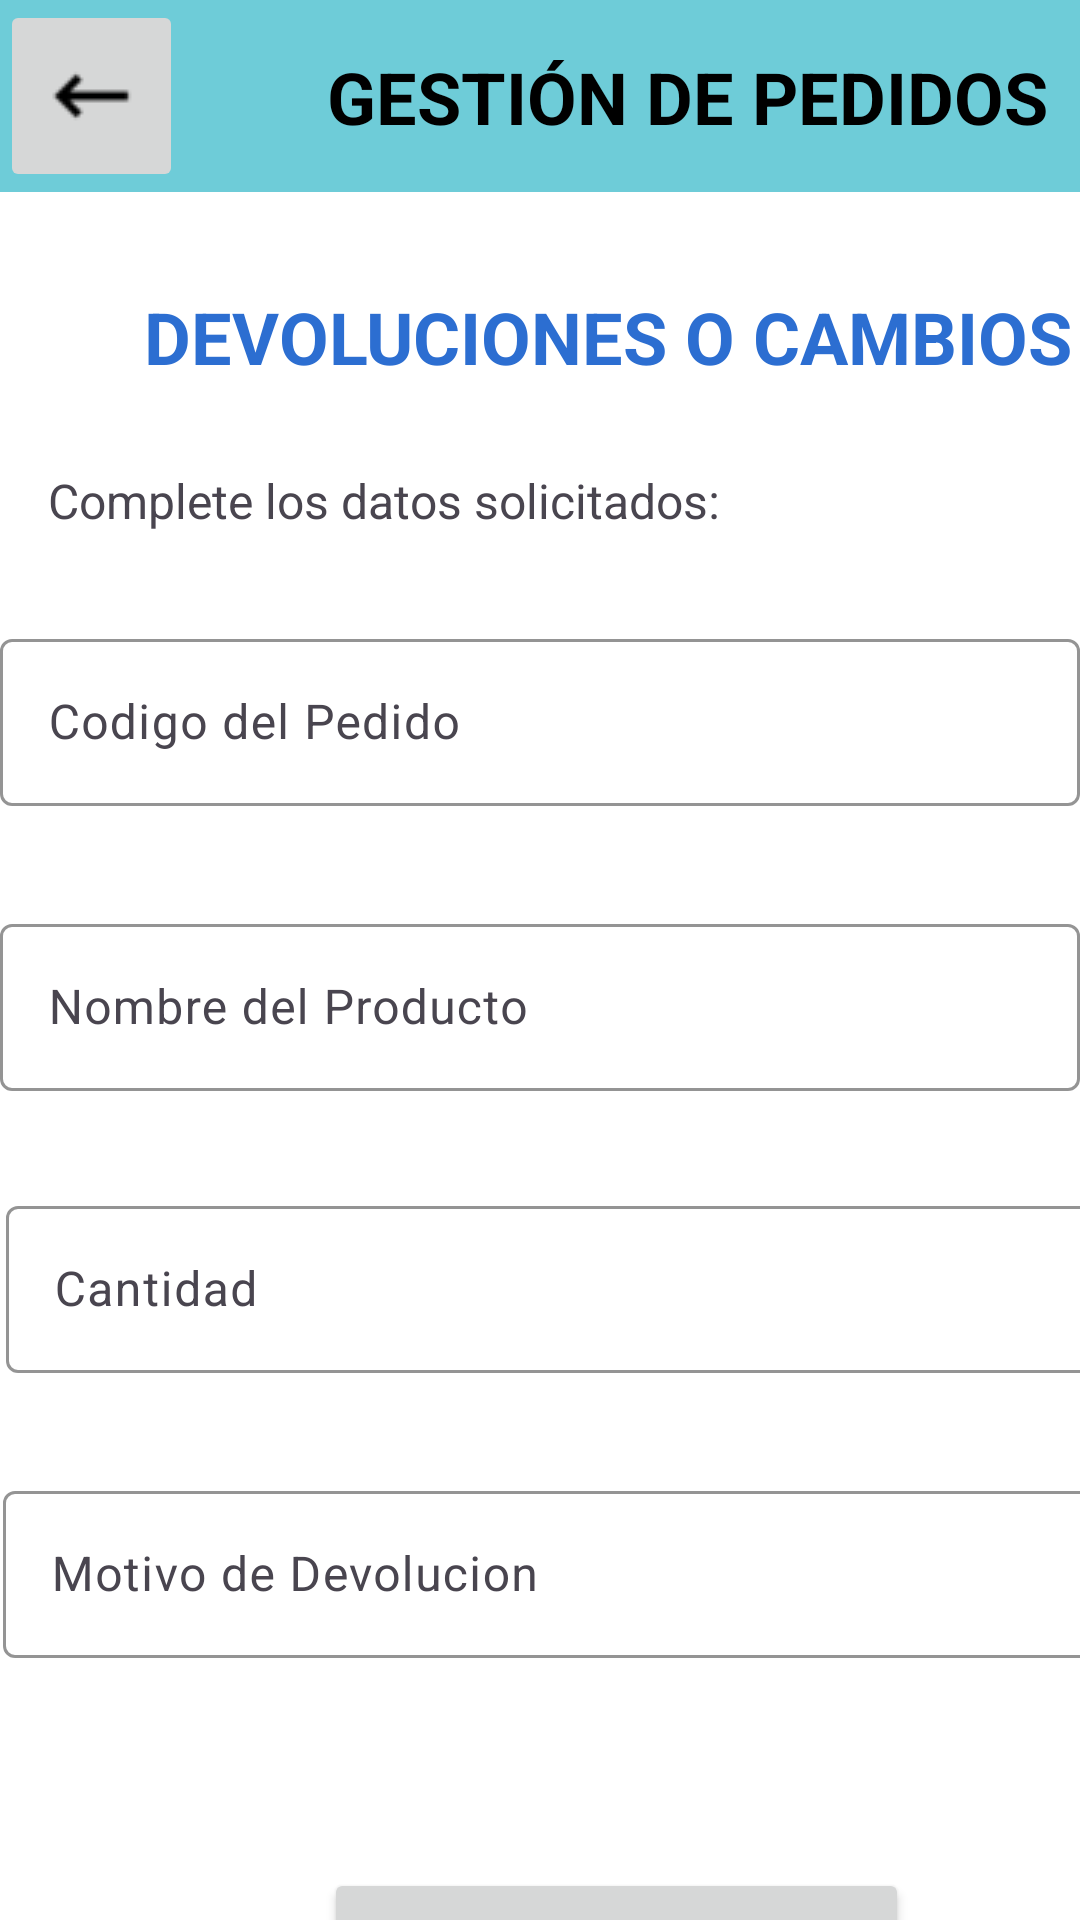

Icons on this 1080x1920 Android screen, each with the point to tap as (x,y):
flecha regreso: (91,96)
